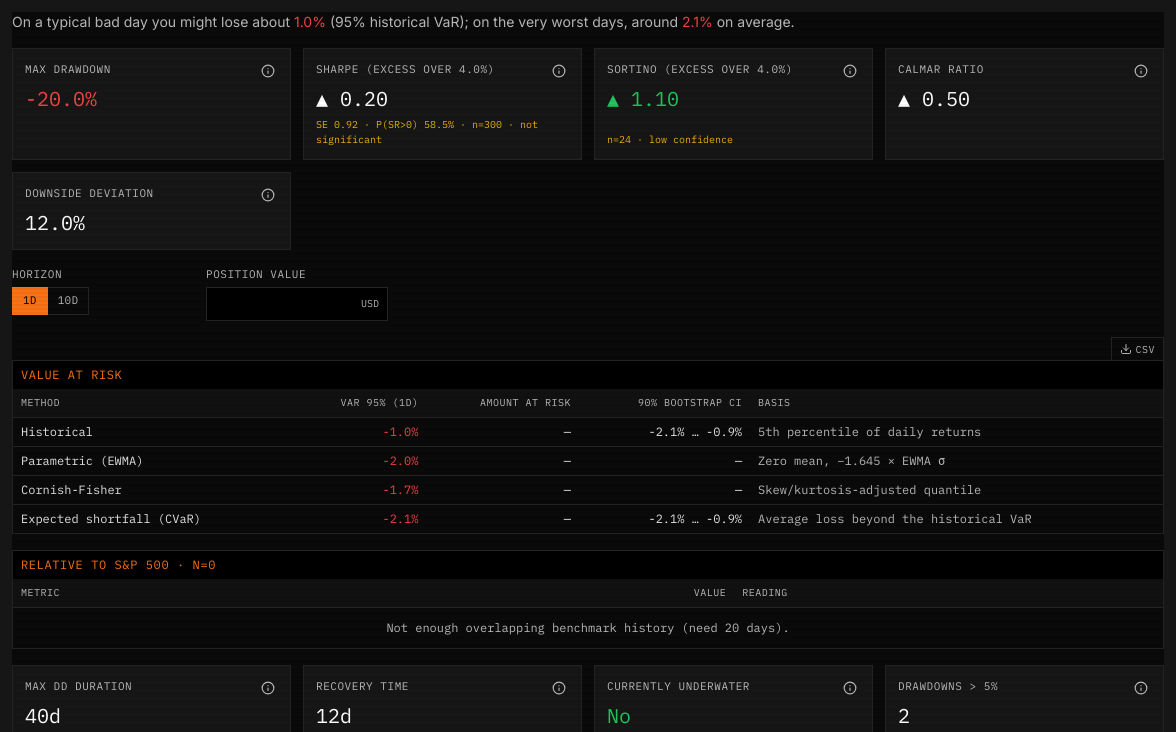
Test: RiskSection › does not crash switching to the 10D horizon with short history
Click the button "10D": (68, 300) [47,286,89,314]
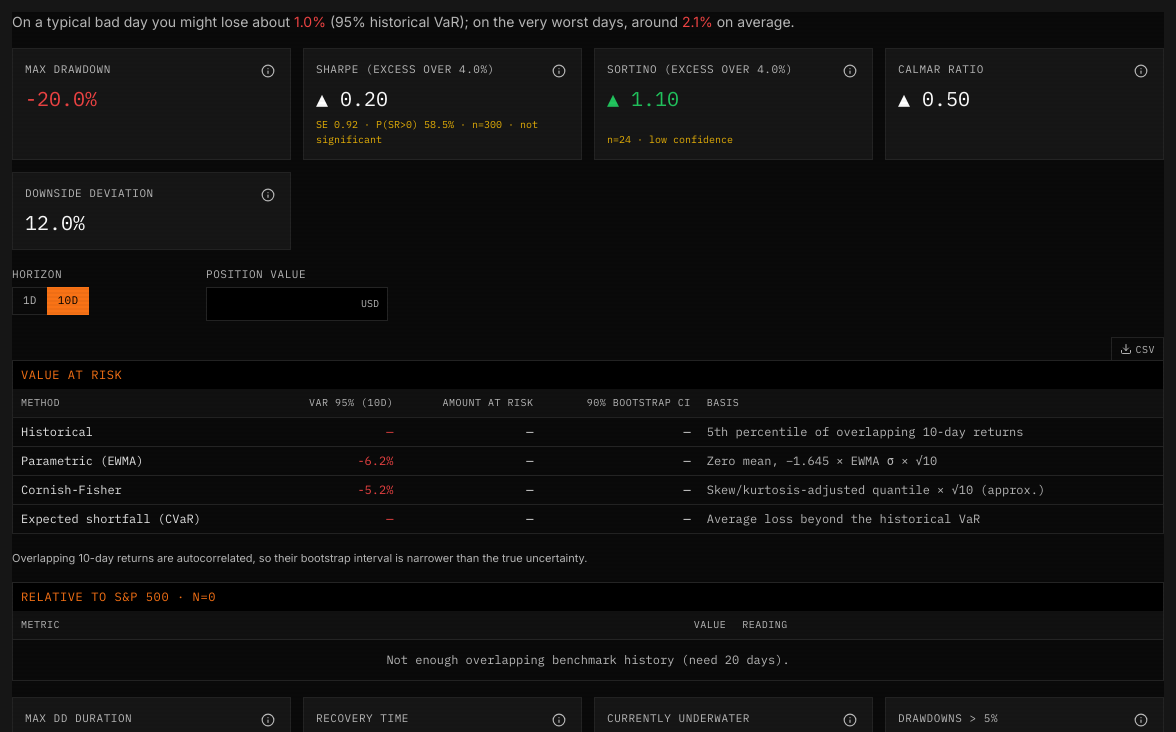
Expected: the column heading "VaR 95% (10D)" is shown, [270,388,401,417]
Expected: the 1st text "—" is shown, [270,417,401,446]
